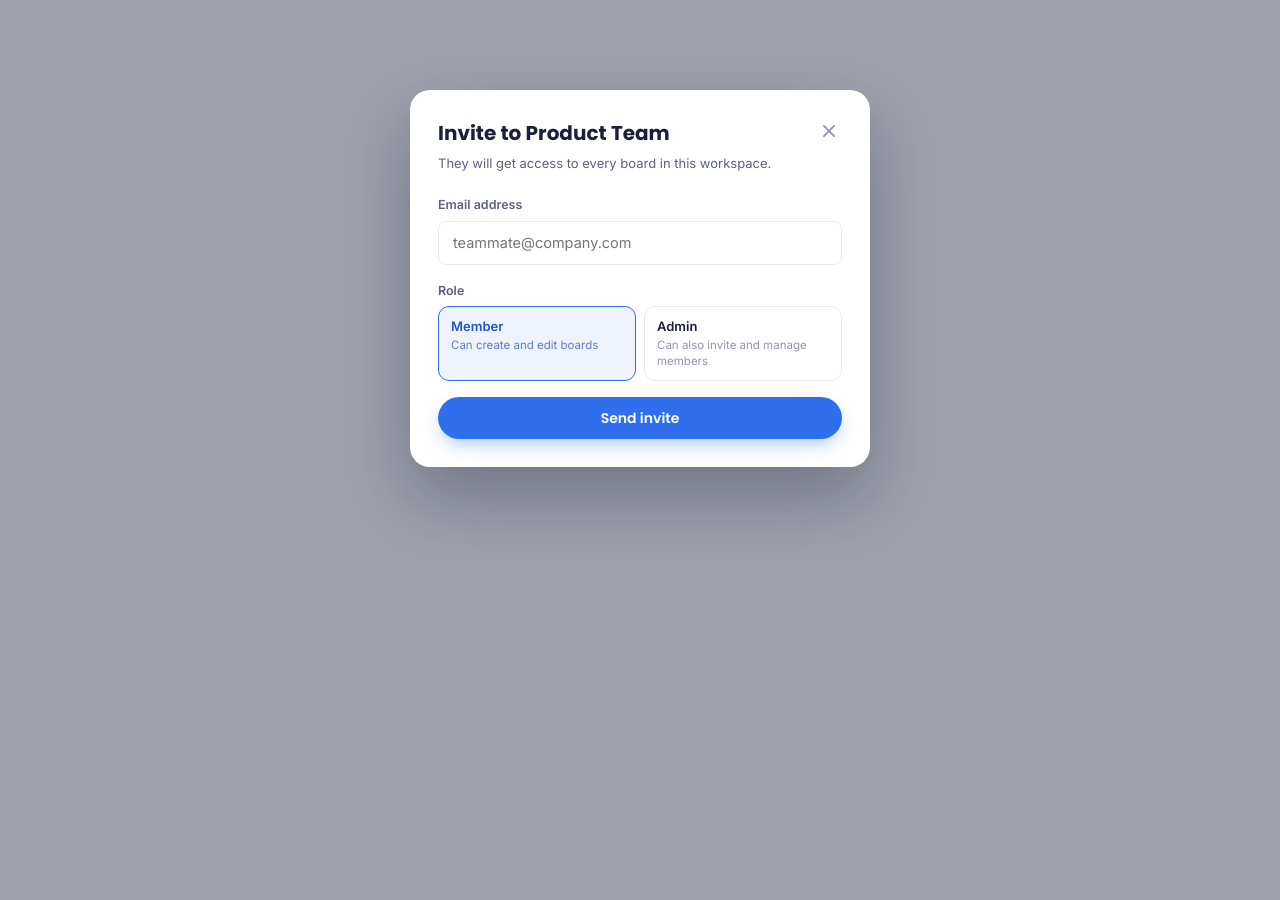
InviteModal › copies the accept link to the clipboard
This screenshot has width=1280, height=900.
Type "new@example.com" into the field labelled "Email address" at coordinates (640, 242), box [438,220,842,264]
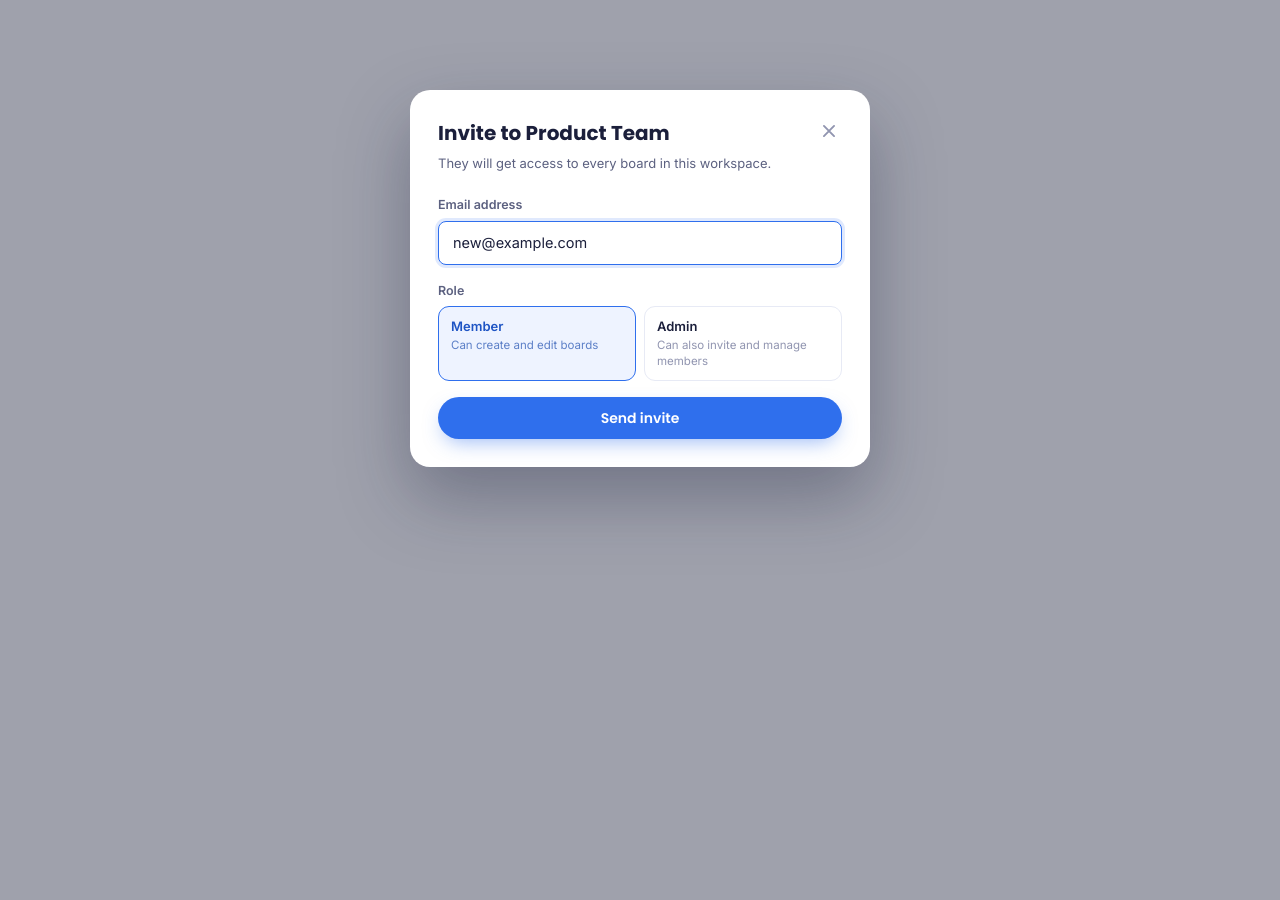
Click the button "Send invite" at coordinates (640, 418), box [438,397,842,439]
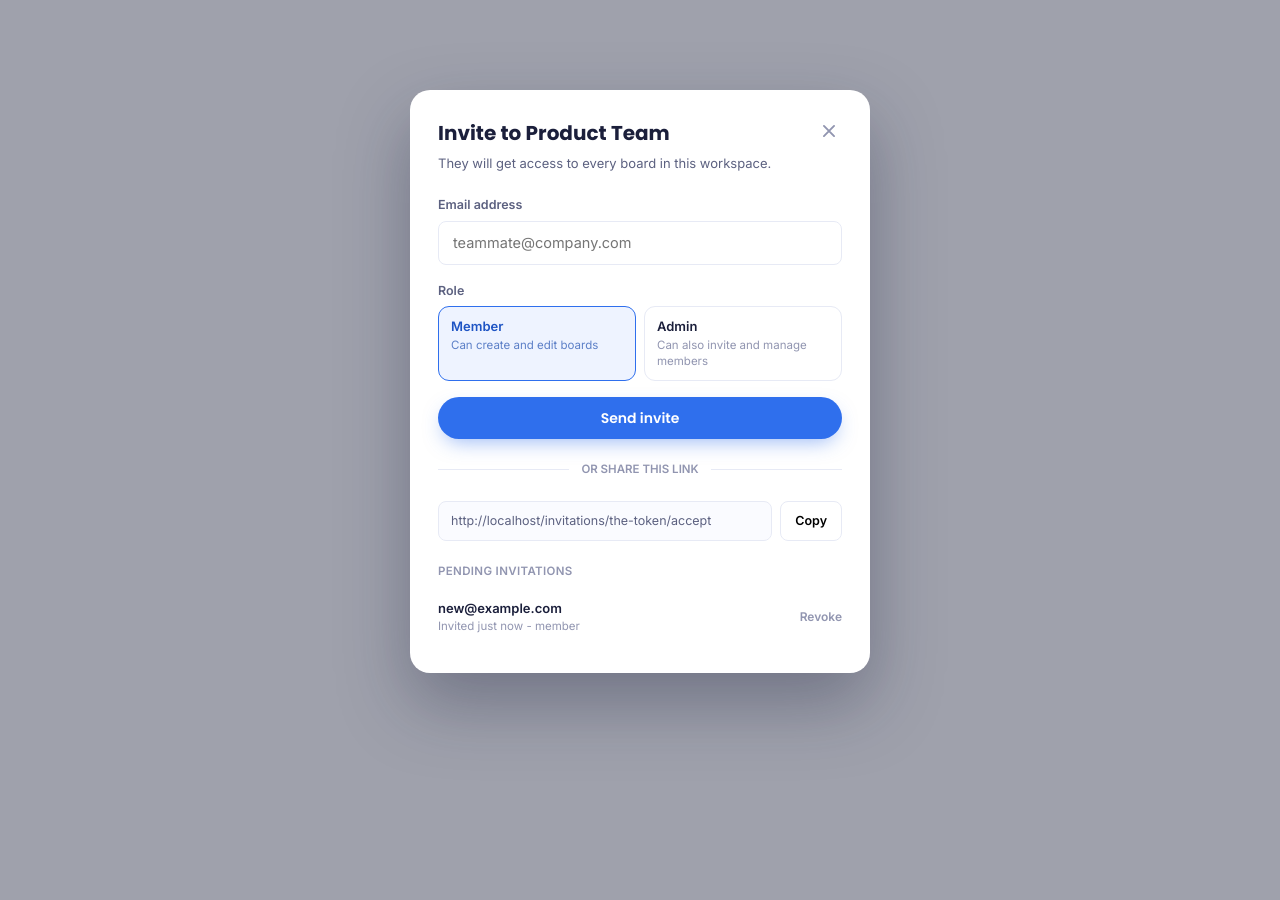
Expected: the text "http://localhost/invitations/the-token/accept" is shown, [438,501,772,541]
Click the button "Copy" at coordinates (811, 521), box [780,501,842,541]
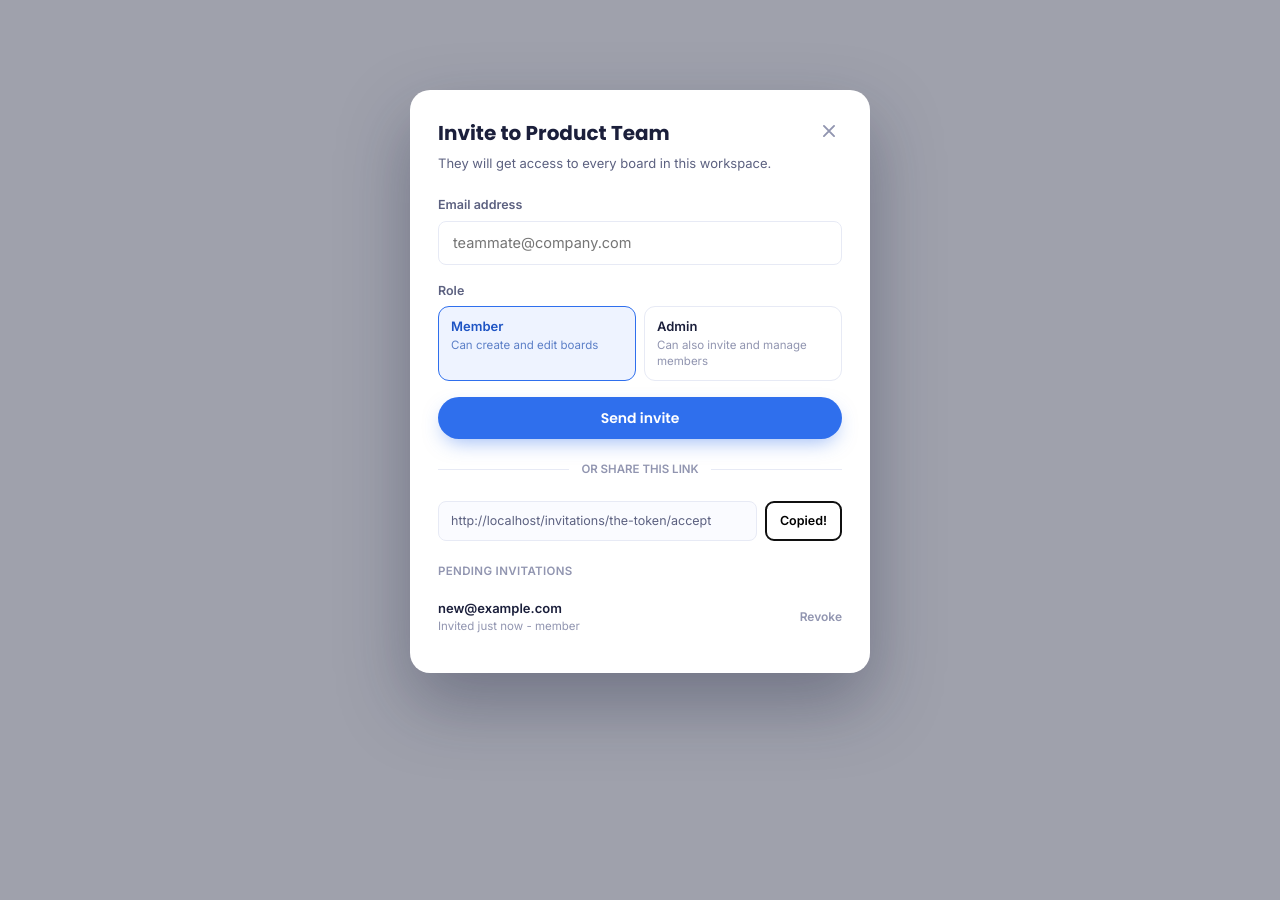
Expected: the button "Copied!" is shown, [765,501,842,541]
